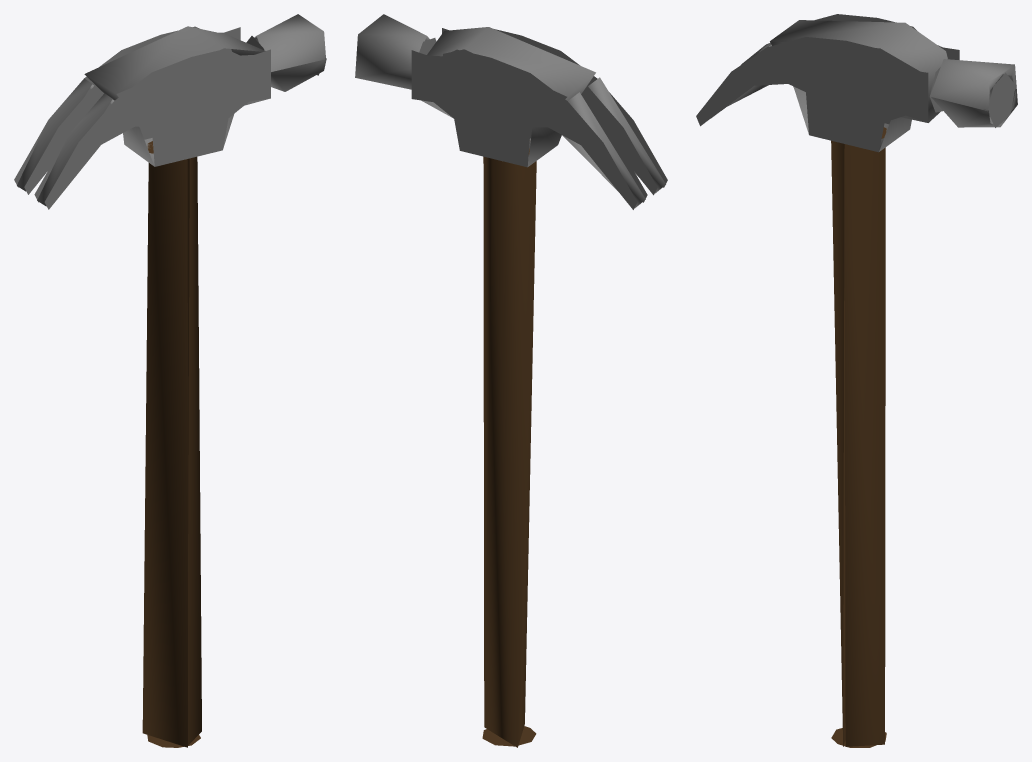
File: hammer.fbx
3 views of the same model, side by side, from view 1: azimuth 30°, elevation 25°; view 2: azimuth 150°, elevation 25°; view 3: azimuth 330°, elevation 25° (orthographic). The views are drawn at different scales.
Visible parts, largest first — view 1: Shaft, Head, Head.002, Head.003, Head.001; view 2: Shaft, Head, Head.001, Head.003, Head.002; view 3: Shaft, Head, Head.003, Head.002.
Boxes of the visible parts, <box> form: Shaft: <box>142,141,201,747</box>; Head: <box>84,26,270,166</box>; Head.002: <box>34,93,134,209</box>; Head.003: <box>246,14,326,91</box>; Head.001: <box>14,78,101,194</box>; Shaft: <box>482,148,536,747</box>; Head: <box>411,27,597,167</box>; Head.001: <box>548,92,647,209</box>; Head.003: <box>355,14,436,89</box>; Head.002: <box>581,77,667,195</box>; Shaft: <box>831,127,886,747</box>; Head: <box>768,14,959,152</box>; Head.003: <box>929,59,1017,127</box>; Head.002: <box>696,43,787,126</box>.
Bounding box in the file's own units: 20.17 × 46.99 × 3.91.
